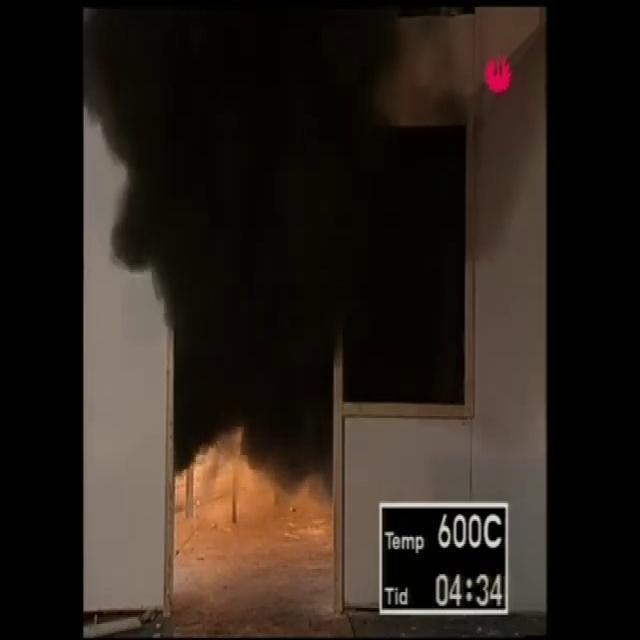Smoke: (127, 23, 395, 453)
